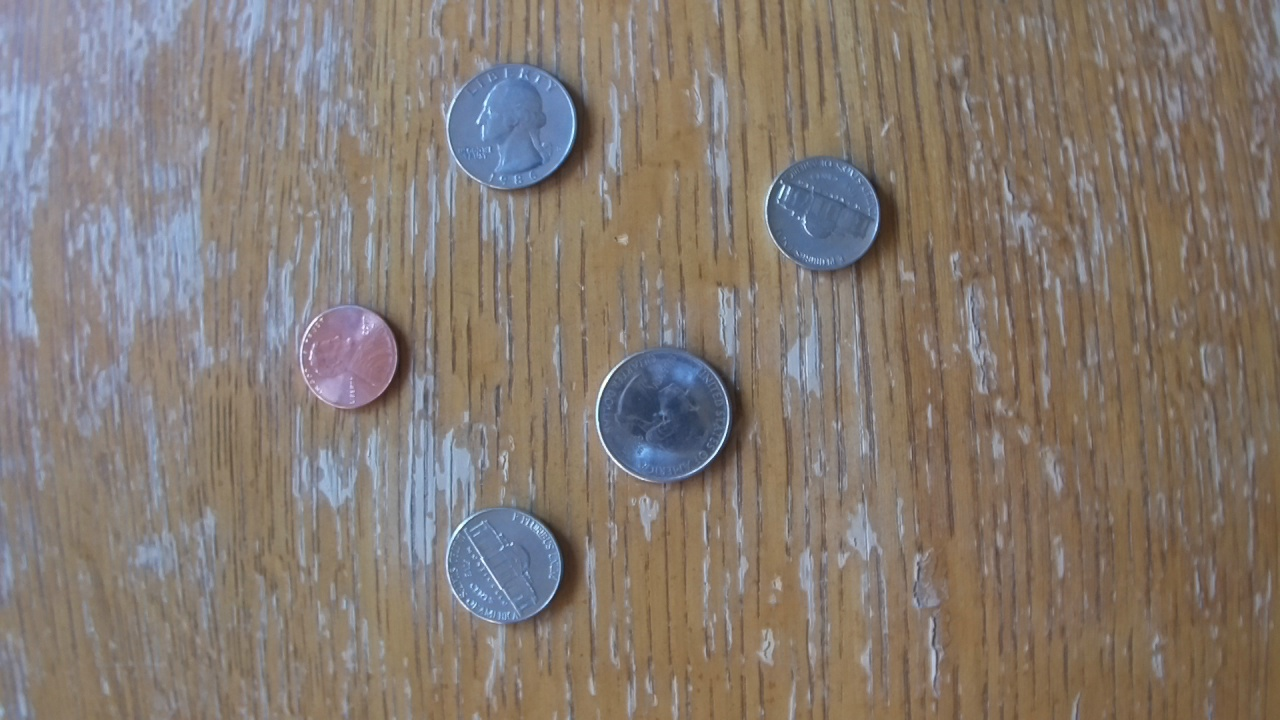nickel: (761, 154, 895, 272), (436, 508, 574, 622)
penny: (294, 297, 408, 417)
quarter: (598, 343, 734, 493), (442, 58, 584, 198)
